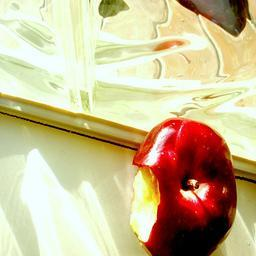apple: (128, 118, 237, 255)
